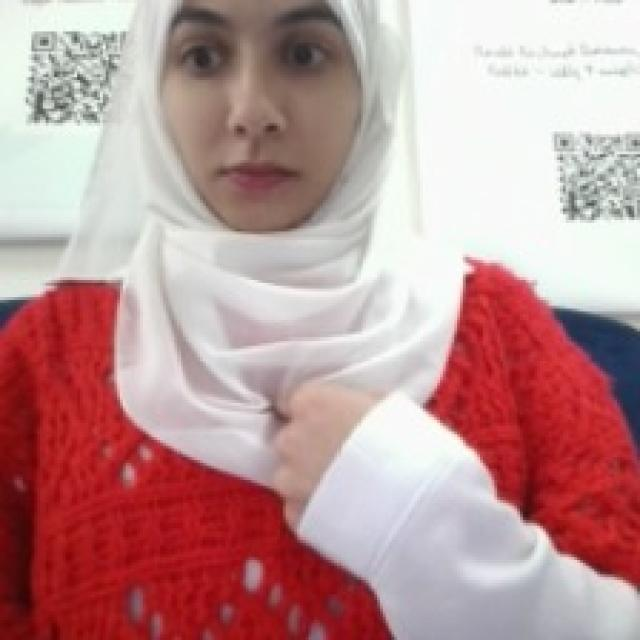me: (262, 368, 396, 536)
